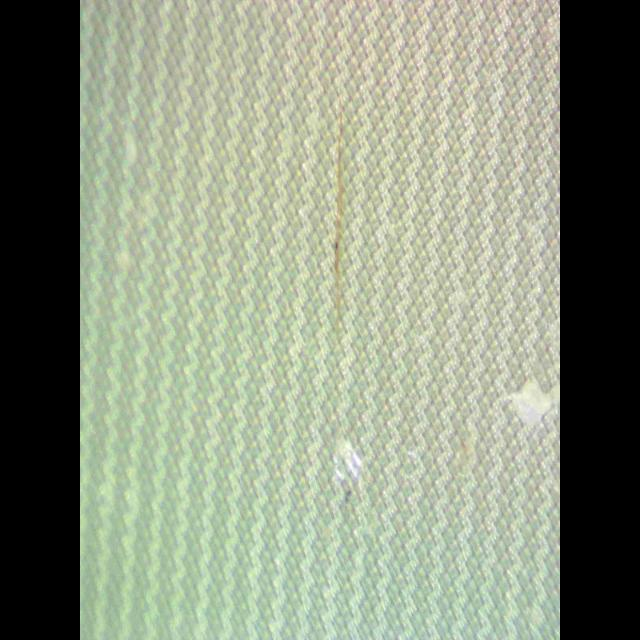Fibre: (326, 89, 350, 354)
